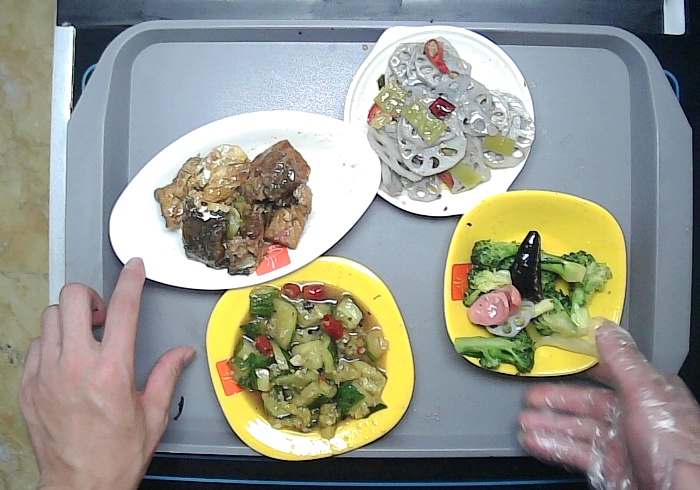SHKJ-Bao_Yu_Pan: (342, 23, 536, 219)
SHKJ-Huang_Se_Cai_Die: (441, 188, 629, 378)
SHKJ-Huang_Se_Si_Fang_Cai_Die: (204, 253, 418, 461)
SHKJ-Yu_Pan: (106, 108, 384, 293)
